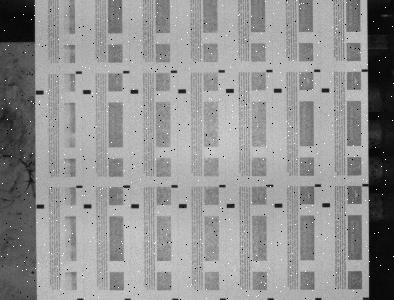backgroundclutter: (31, 271, 35, 274)
qblock: (130, 89, 139, 94), (275, 203, 283, 208), (227, 203, 235, 208), (274, 88, 282, 93), (36, 204, 44, 209), (322, 203, 331, 207), (36, 90, 44, 94), (131, 204, 139, 208), (179, 204, 187, 208), (84, 204, 92, 208), (178, 89, 186, 93), (83, 90, 91, 94), (322, 88, 330, 92), (226, 89, 234, 93)
smallqblock: (219, 184, 226, 187), (267, 184, 274, 187), (76, 185, 83, 188), (123, 71, 130, 74), (172, 185, 178, 188), (362, 69, 368, 72), (315, 184, 321, 187), (124, 185, 130, 188), (267, 69, 273, 72), (219, 70, 225, 73), (171, 70, 177, 73), (315, 69, 321, 72), (76, 71, 82, 74), (363, 184, 369, 186)
